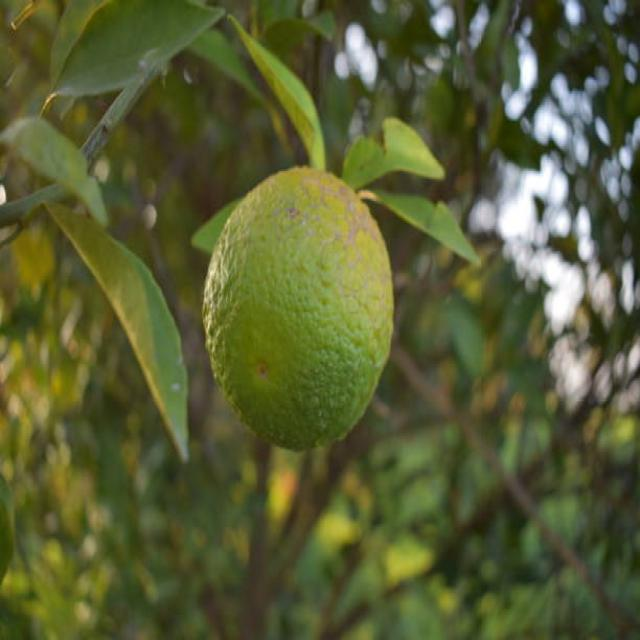Unripe: (201, 162, 394, 449)
